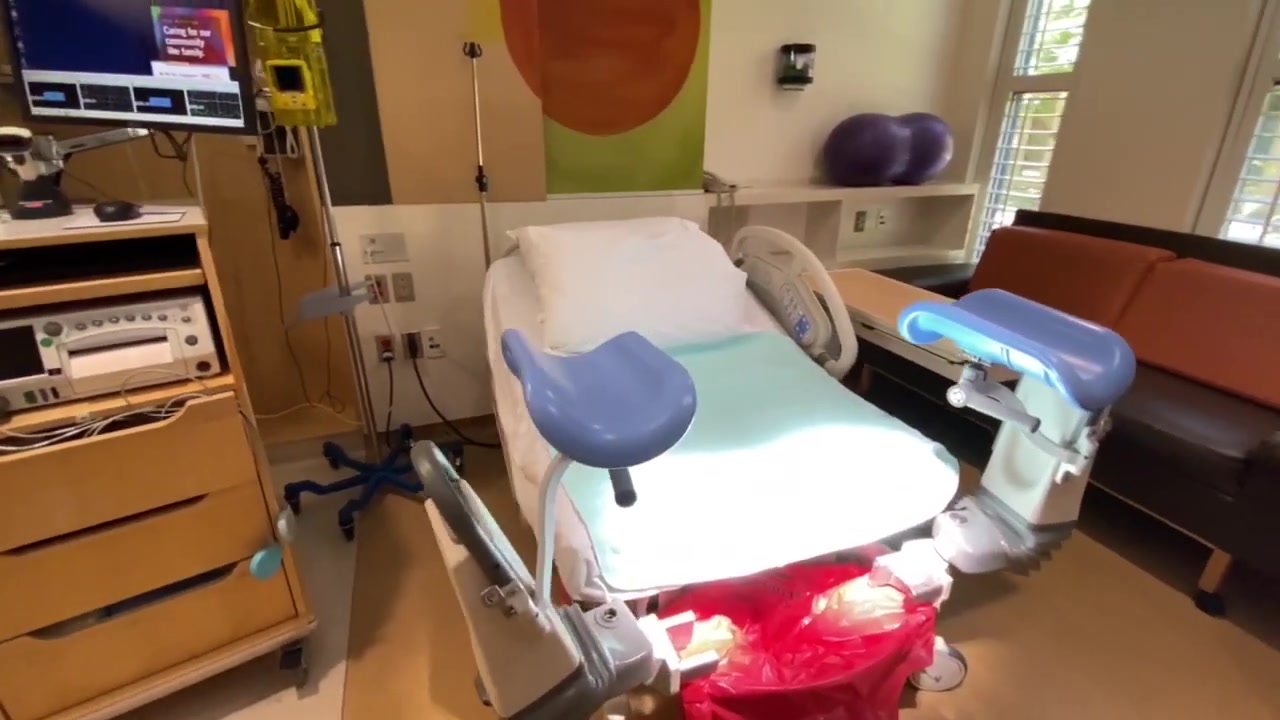bedrail: (721, 225, 859, 381)
computer: (1, 1, 250, 130)
drawer: (1, 210, 312, 718)
hospital_bed: (481, 218, 961, 716)
iv_pole: (273, 1, 387, 464), (457, 46, 498, 267)
mouse: (88, 195, 139, 224)
overbed_table: (812, 268, 1026, 382)
sofa: (869, 211, 1280, 616)
waste_bin: (639, 567, 940, 713)
